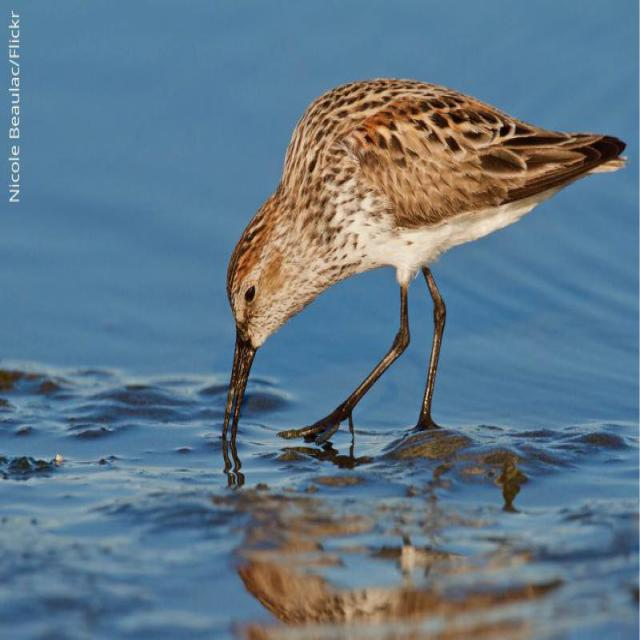Sandpiper: (222, 78, 614, 485)
